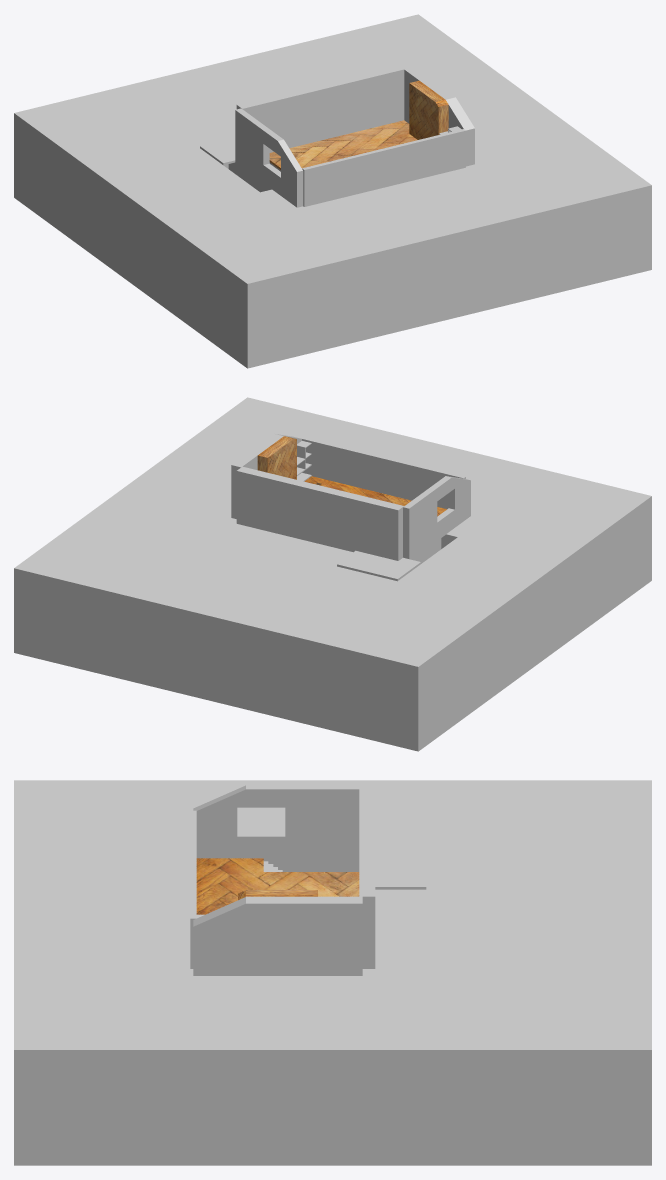
The model's file is house_finish_2.FBX.
3 renders of one model, top to bottom at view 1: azimuth 30°, elevation 25°; view 2: azimuth 150°, elevation 25°; view 3: azimuth 270°, elevation 25°, orthographic. The views are drawn at different scales.
Visible parts, largest first — view 1: ground, back wall, front wall, left wall, floor, wooden wall, right wall, down roof; view 2: ground, back wall, front wall, left wall, down roof, wooden wall, right wall, floor; view 3: ground, right wall, left wall, floor, back wall, down roof, front wall, down wall 1, wooden wall.
Boxes of the visible parts, x1=… form: ground: x1=14, y1=14, x2=651, y2=368; back wall: x1=236, y1=65, x2=404, y2=152; front wall: x1=302, y1=129, x2=465, y2=206; left wall: x1=235, y1=108, x2=303, y2=207; floor: x1=269, y1=120, x2=417, y2=169; wooden wall: x1=409, y1=80, x2=448, y2=139; right wall: x1=403, y1=66, x2=474, y2=166; down roof: x1=200, y1=137, x2=235, y2=165; ground: x1=14, y1=397, x2=651, y2=751; back wall: x1=236, y1=466, x2=403, y2=560; front wall: x1=302, y1=437, x2=465, y2=509; left wall: x1=403, y1=476, x2=470, y2=559; down roof: x1=337, y1=550, x2=420, y2=581; wooden wall: x1=257, y1=436, x2=296, y2=479; right wall: x1=231, y1=434, x2=301, y2=518; floor: x1=304, y1=476, x2=446, y2=516; ground: x1=14, y1=780, x2=651, y2=1165; right wall: x1=193, y1=896, x2=362, y2=975; left wall: x1=193, y1=785, x2=362, y2=861; floor: x1=196, y1=858, x2=359, y2=914; back wall: x1=359, y1=789, x2=375, y2=968; down roof: x1=375, y1=846, x2=426, y2=889; front wall: x1=190, y1=810, x2=196, y2=968; down wall 1: x1=268, y1=861, x2=359, y2=871; wooden wall: x1=238, y1=890, x2=317, y2=900.
Bounding box in the file's own units: 20 × 6.5 × 20.
